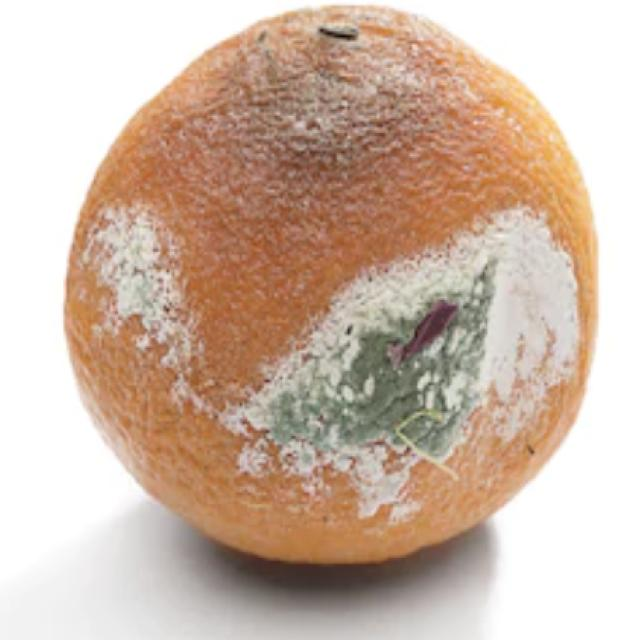sedikit_busuk: (62, 0, 595, 580)
